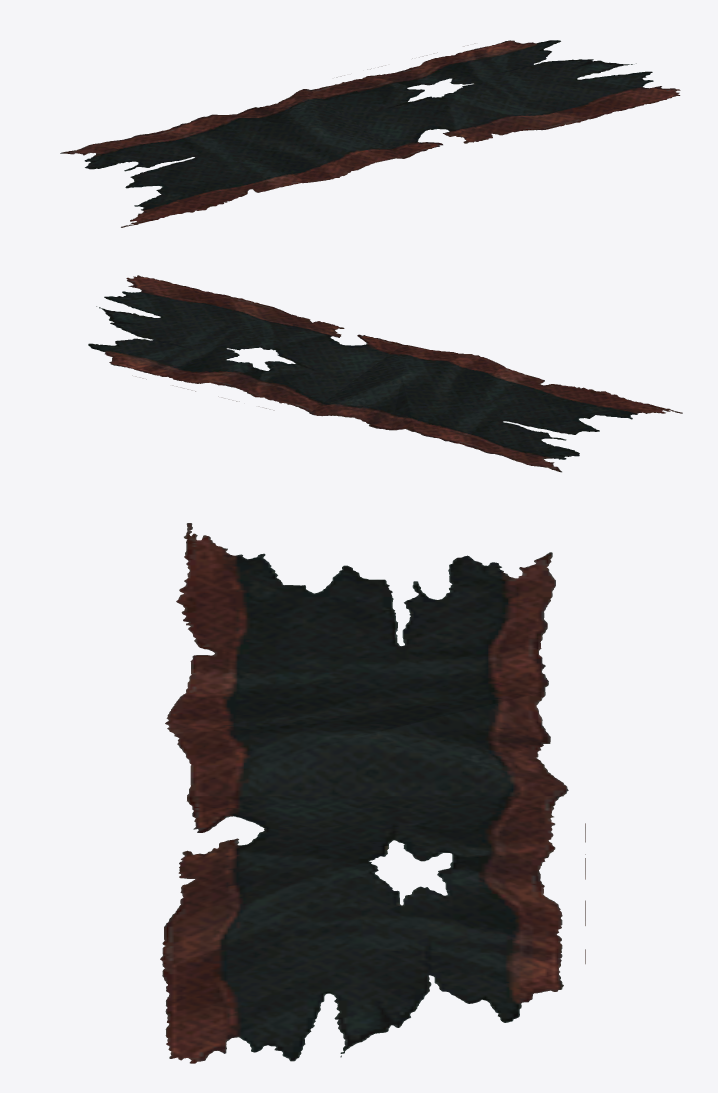
File: crypt_rug01.fbx
3 views of the same model, one above another, from view 1: azimuth 30°, elevation 25°; view 2: azimuth 150°, elevation 25°; view 3: azimuth 270°, elevation 25° (orthographic). The views are drawn at different scales.
Visible parts, largest first — view 1: obj0.107; view 2: obj0.107; view 3: obj0.107.
Boxes of the visible parts, x1,y1,x2,y2 form: obj0.107: [60, 40, 680, 227]; obj0.107: [88, 275, 682, 472]; obj0.107: [160, 523, 585, 1063].
Size of the model in its own units: 9.05 by 0.1936 by 3.08.
